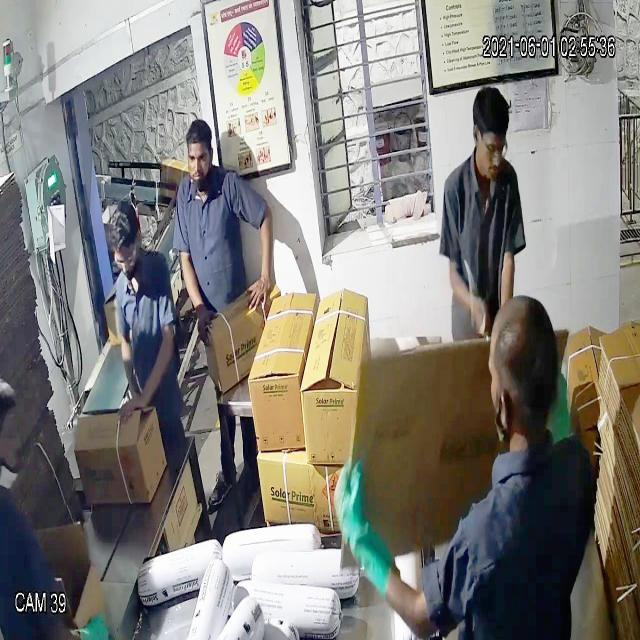glasses: (112, 242, 142, 276)
